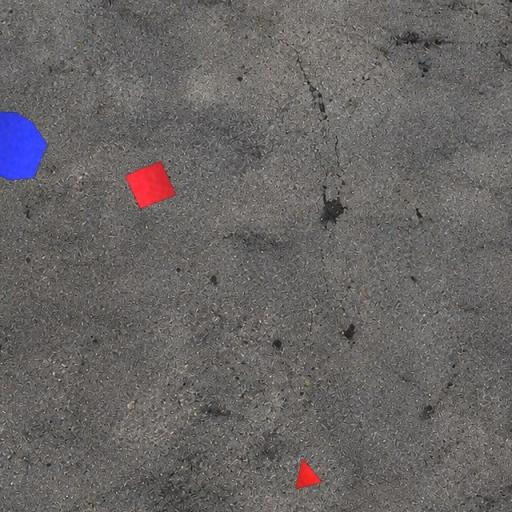RED_SQUARE: (124, 160, 177, 210)
